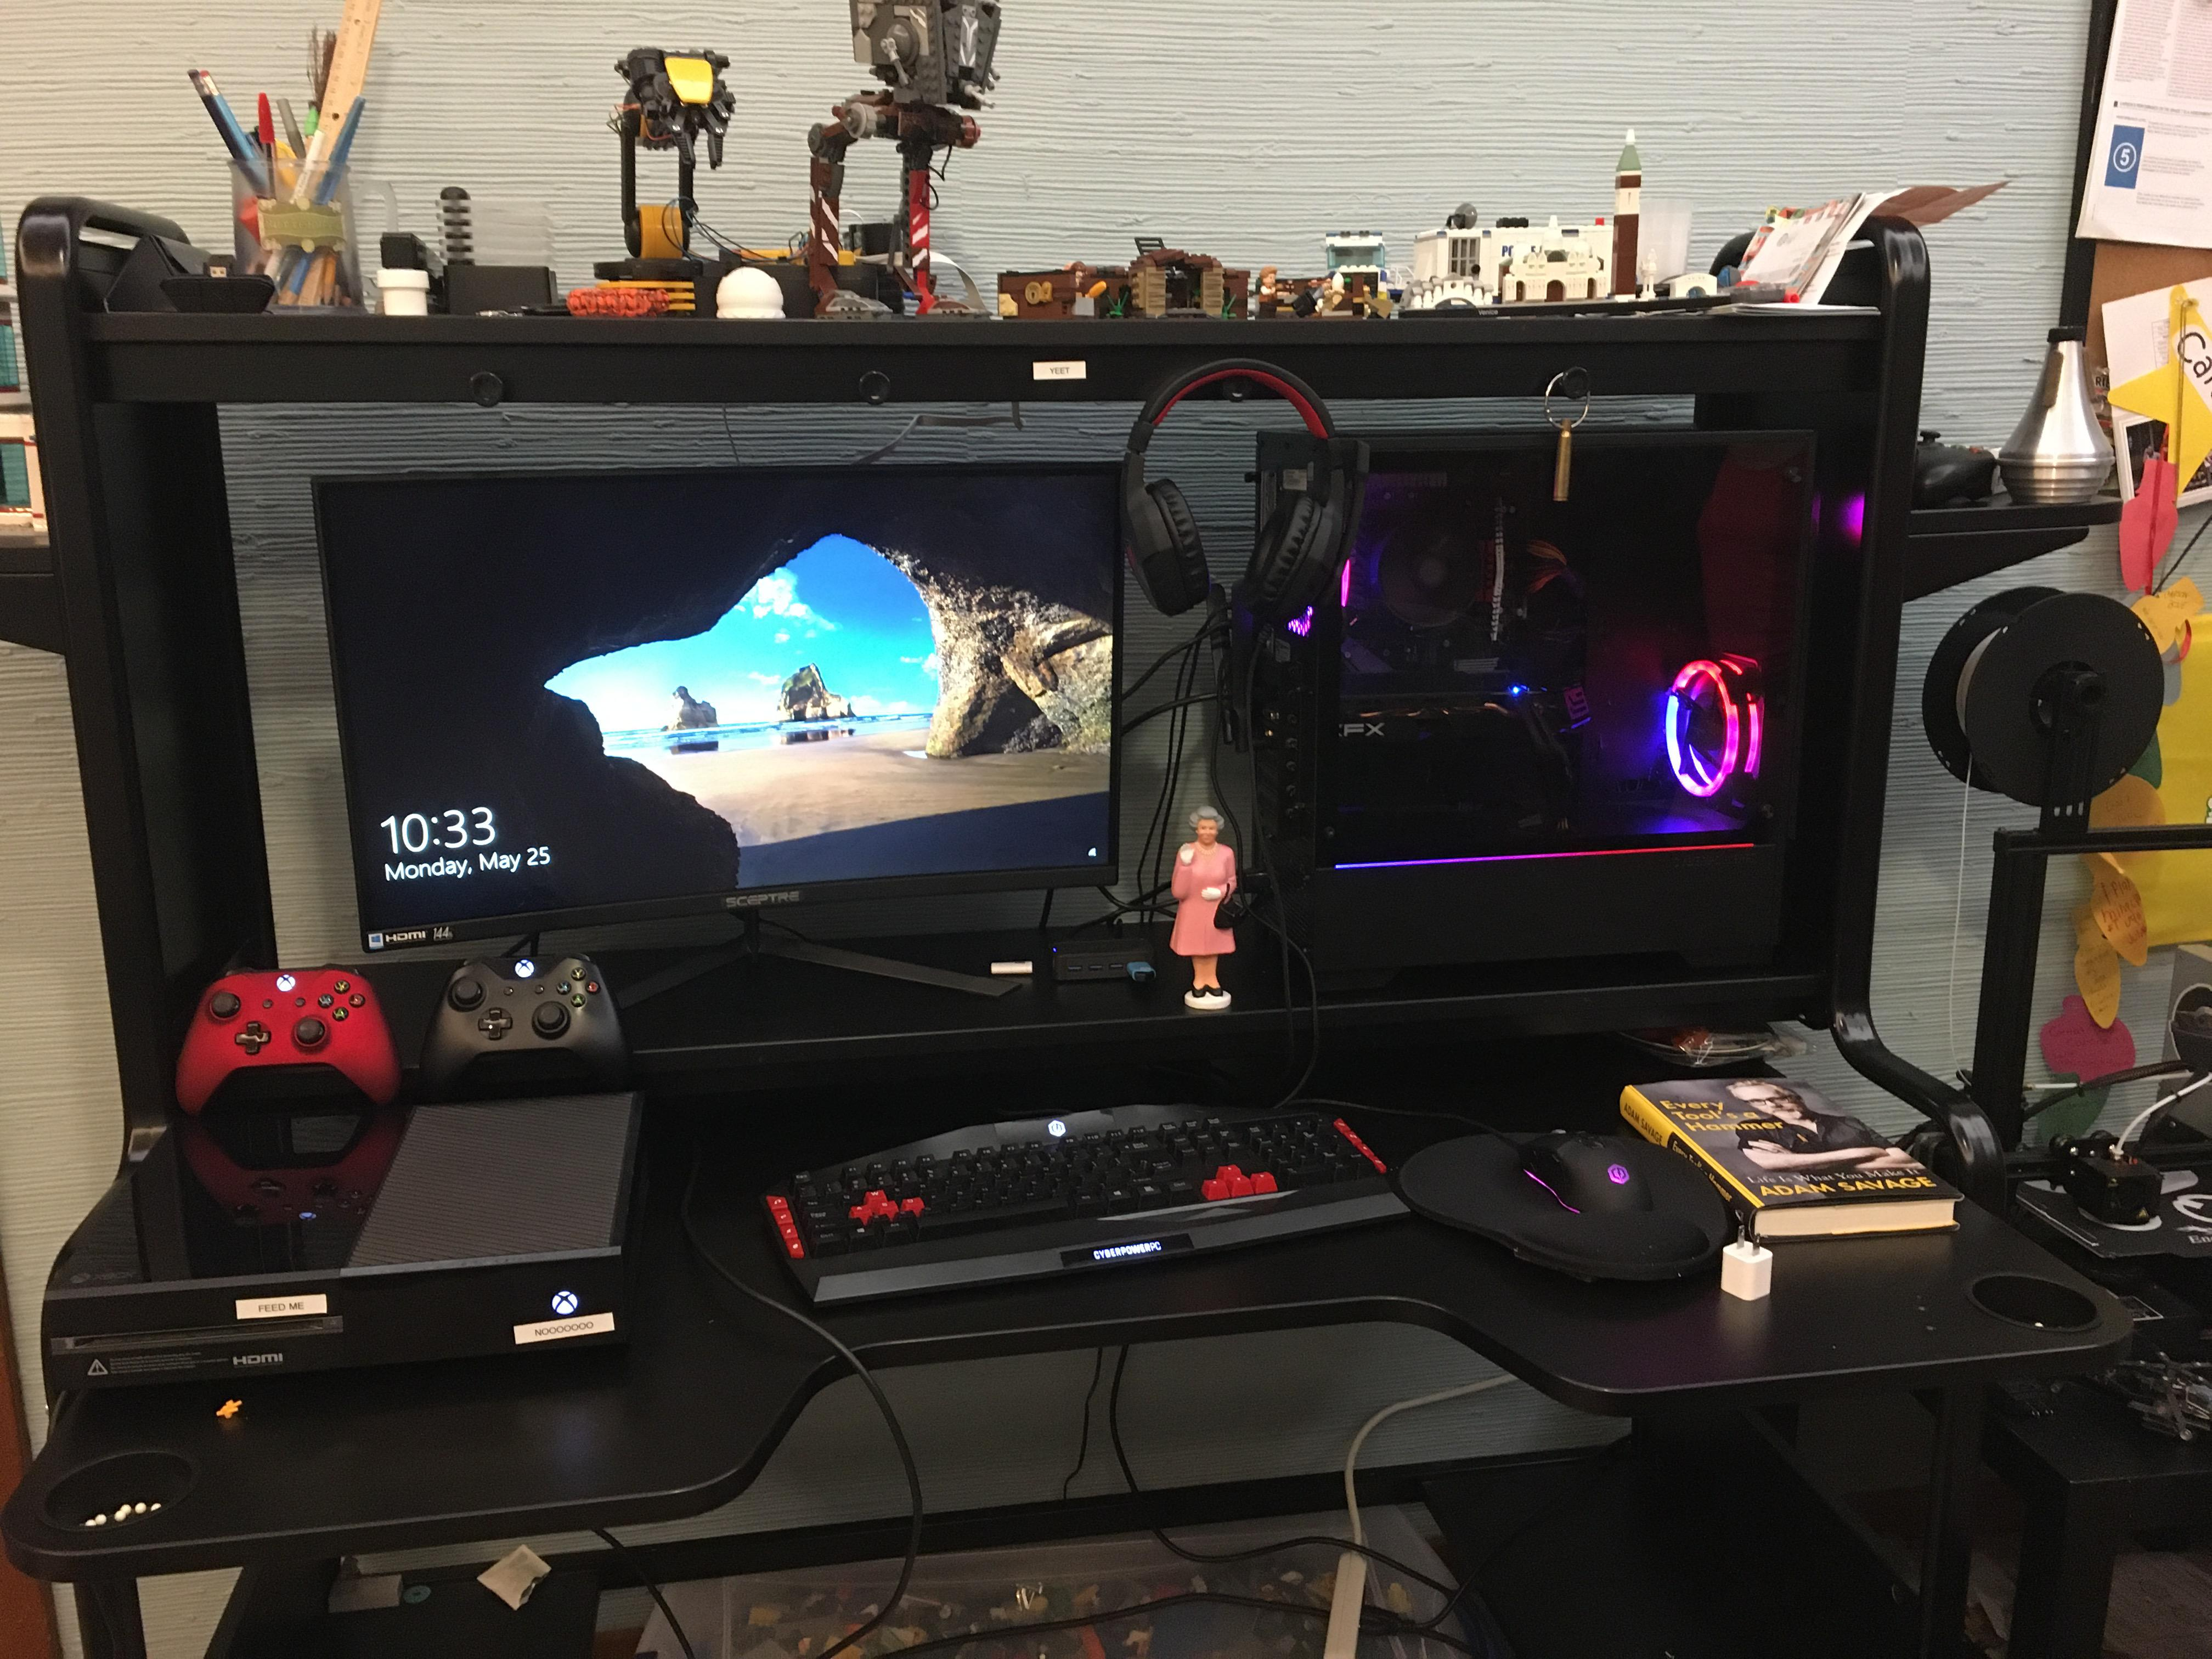Book: (1611, 1056, 1984, 1267)
Cellphone Charger (Generic): (1714, 1211, 1785, 1312)
Decoration (Miniature): (982, 117, 1855, 342), (1162, 805, 1264, 1042)
Desk (Generic): (16, 183, 2212, 1640)
Desktop (Windows): (1230, 371, 1841, 979)
Gaming Console: (38, 1098, 665, 1387)
Gaming Controller: (155, 951, 662, 1115), (1905, 408, 2006, 525)
Headphones (with Microphone): (1094, 349, 1383, 666)
Keyboard (Gaming): (754, 1073, 1416, 1337)
Monitor (Landscape): (300, 453, 1143, 936)
Mouse (Gaming): (1494, 1107, 1648, 1225)
Mousepad (Generic): (1395, 1094, 1757, 1314)
USB Hub: (1021, 920, 1169, 999)
